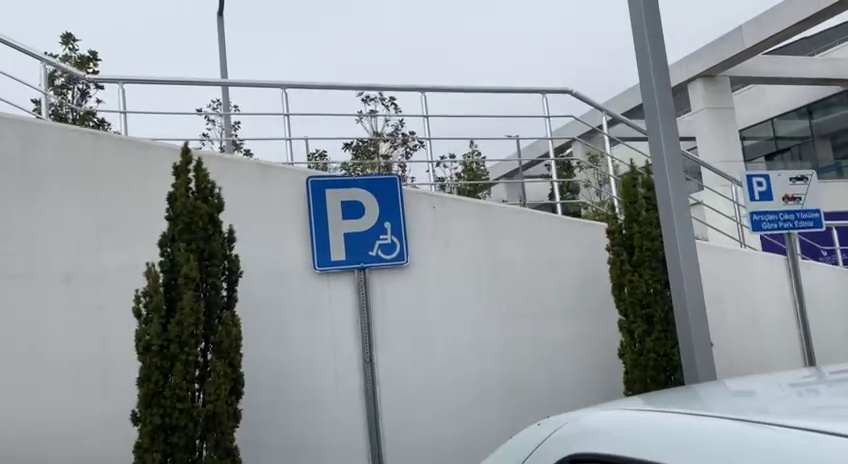parking: (304, 173, 411, 274), (744, 171, 776, 202)
